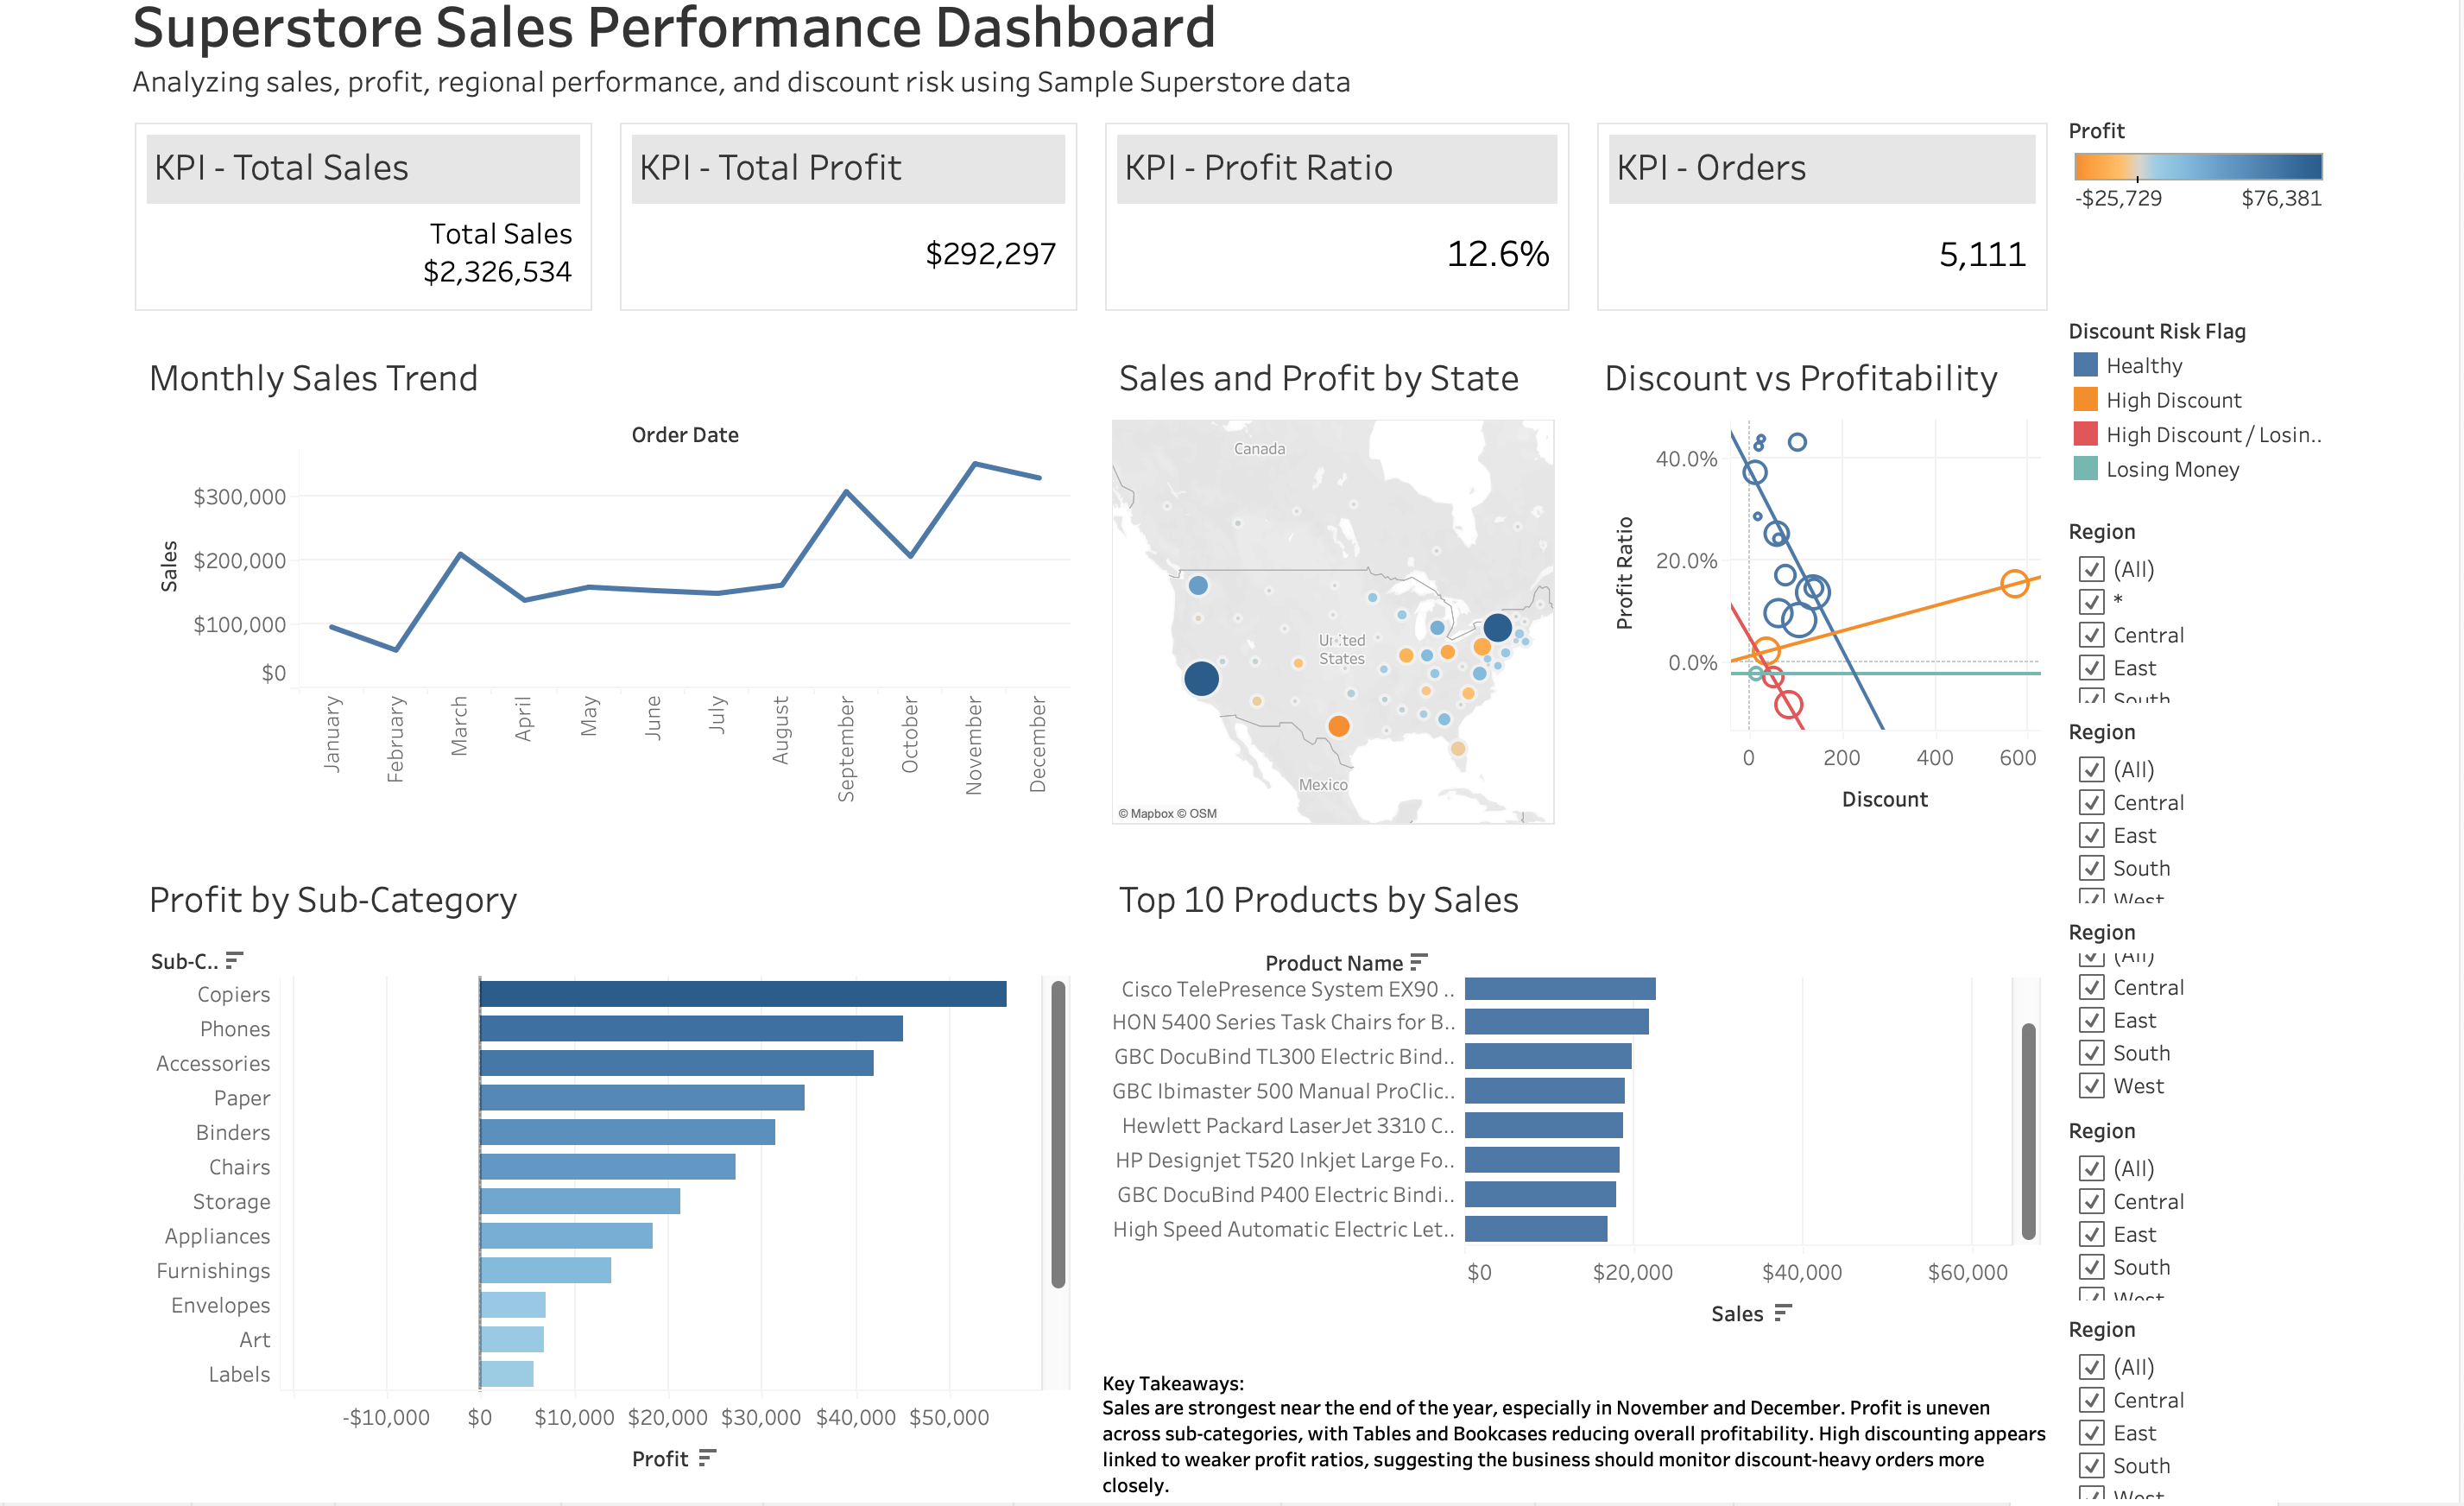

What the dashboard file says about the page in this screenshot:
{"tool":"tableau","page":{"name":"Executive Dashboard ","canvas":[1300,900],"ordinal":0},"visuals":[{"type":"title","box":[8,8,1284,75]},{"type":"worksheet","title":"KPI - Total Sales","mark":"Automatic","box":[8,83,281,125.2]},{"type":"worksheet","title":"KPI - Total Profit","mark":"Automatic","box":[289,83,281,125.2]},{"type":"worksheet","title":"KPI - Profit Ratio","mark":"Automatic","box":[570,83,284.8,125.2]},{"type":"worksheet","title":"KPI - Orders","mark":"Automatic","box":[854.8,83,277.2,125.2]},{"type":"legend","title":"Sales and Profit by State","param":"[federated.17k4c0p15b75dw17ibuza1m570p2].[sum:Profit:qk]","box":[1132,83,160,116]},{"type":"legend","title":"Discount vs Profit","param":"[federated.17k4c0p15b75dw17ibuza1m570p2].[usr:Calculation_4884451309875204:nk]","box":[1132,199,160,116]},{"type":"worksheet","title":"Monthly Sales Trend","mark":"Line","rows":["Sales"],"cols":["Order Date"],"box":[8,208.2,562,301.7]},{"type":"worksheet","title":"Sales and Profit by State","mark":"Automatic","box":[570,208.2,281,301.7]},{"type":"worksheet","title":"Discount vs Profit","mark":"Automatic","rows":["Calculation_4884451308998656"],"cols":["Discount"],"box":[851,208.2,281,301.7]},{"type":"filter","title":"Sales and Profit by State","param":"[federated.17k4c0p15b75dw17ibuza1m570p2].[attr:Region:nk]","box":[1132,315,160,116]},{"type":"filter","title":"Profit by Sub-Category","param":"[federated.17k4c0p15b75dw17ibuza1m570p2].[none:Region:nk]","box":[1132,431,160,116]},{"type":"worksheet","title":"Profit by Sub-Category","mark":"Automatic","rows":["Sub-Category"],"cols":["Profit"],"box":[8,509.9,562,382.1]},{"type":"worksheet","title":"Top 10 Products by Sales","mark":"Automatic","rows":["Product Name"],"cols":["Sales"],"box":[570,509.9,562,298.2]},{"type":"filter","title":"Top 10 Products by Sales","param":"[federated.17k4c0p15b75dw17ibuza1m570p2].[none:Region:nk]","box":[1132,547,160,115]},{"type":"filter","title":"Discount vs Profit","param":"[federated.17k4c0p15b75dw17ibuza1m570p2].[none:Region:nk]","box":[1132,662,160,115]},{"type":"filter","title":"Monthly Sales Trend","param":"[federated.17k4c0p15b75dw17ibuza1m570p2].[none:Region:nk]","box":[1132,777,160,115]},{"type":"text","box":[570,808.1,562,83.9]}]}

Visuals, with their boxes on the page's 1300x900 design canvas (x1, y1, x2, y2). These are canvas units, not pixel positions in the 2464x1506 screenshot, which may show the page scaled, cropped or inside an application window:
title: <bbox>8, 8, 1292, 83</bbox>
"KPI - Total Sales" worksheet: <bbox>8, 83, 289, 208</bbox>
"KPI - Total Profit" worksheet: <bbox>289, 83, 570, 208</bbox>
"KPI - Profit Ratio" worksheet: <bbox>570, 83, 855, 208</bbox>
"KPI - Orders" worksheet: <bbox>855, 83, 1132, 208</bbox>
"Sales and Profit by State" legend: <bbox>1132, 83, 1292, 199</bbox>
"Discount vs Profit" legend: <bbox>1132, 199, 1292, 315</bbox>
"Monthly Sales Trend" worksheet (Line marks): <bbox>8, 208, 570, 510</bbox>
"Sales and Profit by State" worksheet: <bbox>570, 208, 851, 510</bbox>
"Discount vs Profit" worksheet: <bbox>851, 208, 1132, 510</bbox>
"Sales and Profit by State" filter: <bbox>1132, 315, 1292, 431</bbox>
"Profit by Sub-Category" filter: <bbox>1132, 431, 1292, 547</bbox>
"Profit by Sub-Category" worksheet: <bbox>8, 510, 570, 892</bbox>
"Top 10 Products by Sales" worksheet: <bbox>570, 510, 1132, 808</bbox>
"Top 10 Products by Sales" filter: <bbox>1132, 547, 1292, 662</bbox>
"Discount vs Profit" filter: <bbox>1132, 662, 1292, 777</bbox>
"Monthly Sales Trend" filter: <bbox>1132, 777, 1292, 892</bbox>
text: <bbox>570, 808, 1132, 892</bbox>
